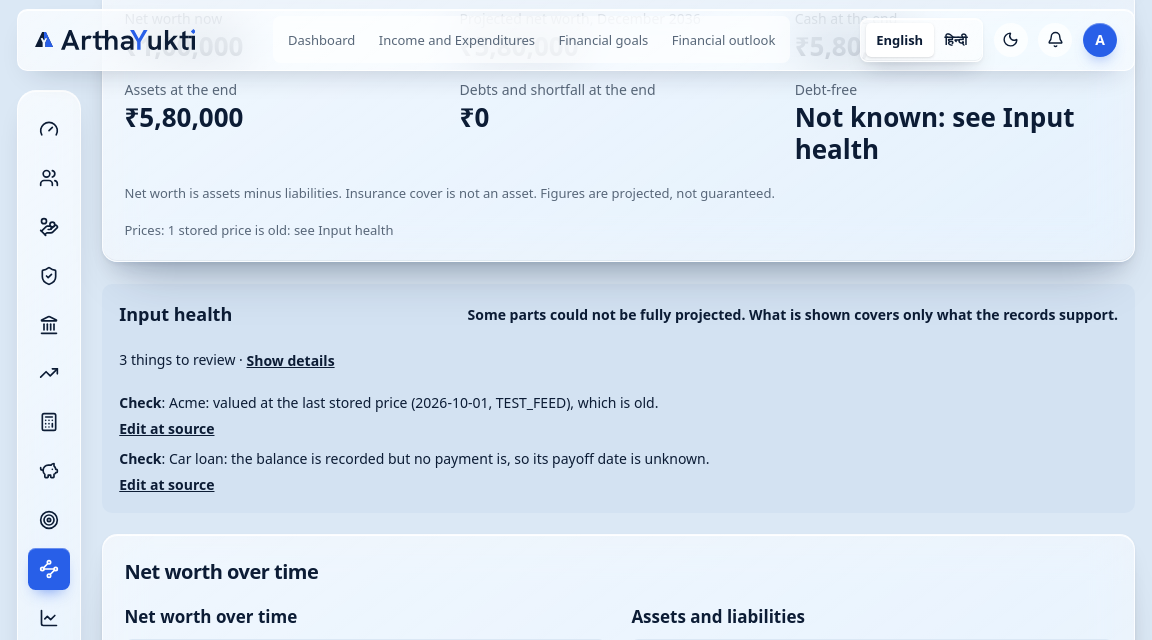
it: states: empty, partial, stale and incomplete › shows what is known and labels what is not: partial, a stale price, an unknown loan payoff
The image size is (1152, 640).
(page scrolled)
Check: the text "Some parts could not be fully projected" is shown, box [468,305,1118,324]
Check: the text "valued at the last stored price (2026-10-01, TEST_FEED)" is shown, box [169,393,658,412]
Click the button "Show details" at (291, 360), box [246,341,335,380]
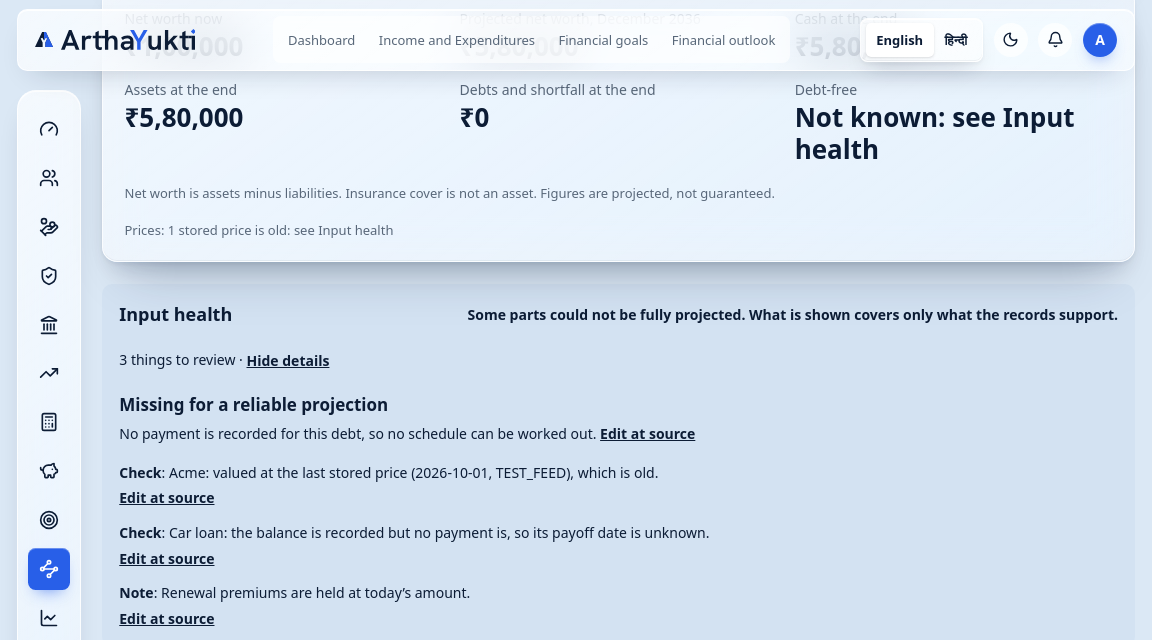
Check: the heading "Missing for a reliable projection" is shown, box [119,393,388,416]
Check: the list item "No payment is recorded for this debt" is shown, box [119,424,596,443]
